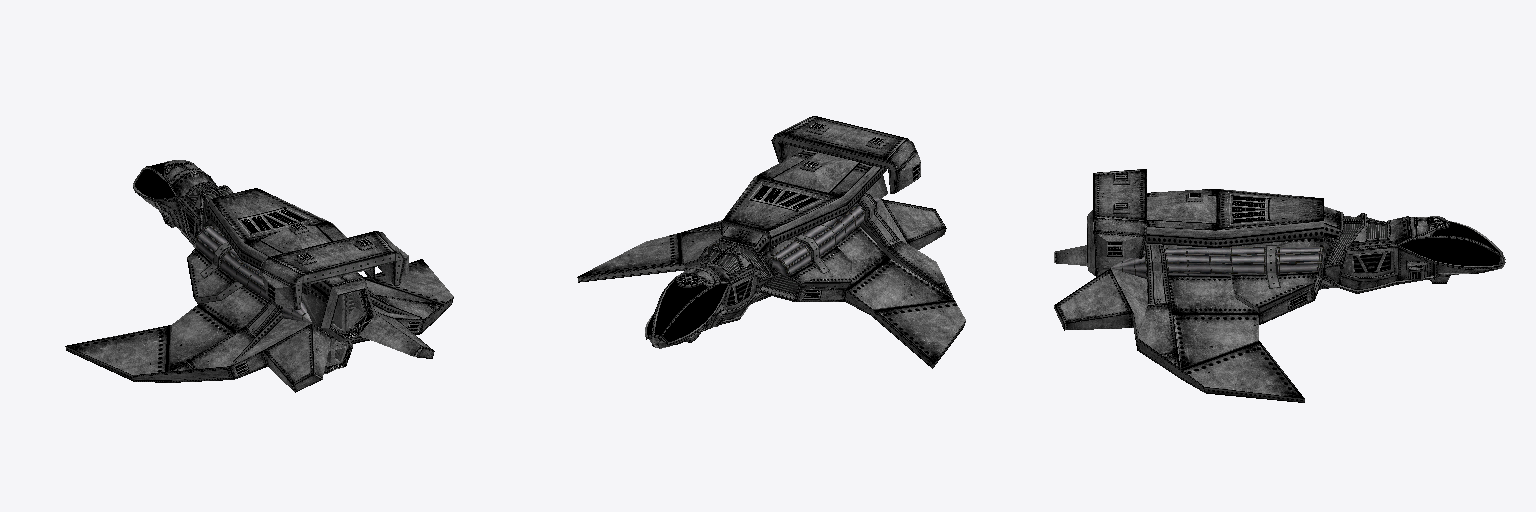
3 views of the same model, side by side, from view 1: azimuth 30°, elevation 25°; view 2: azimuth 150°, elevation 25°; view 3: azimuth 270°, elevation 25° (orthographic).
Visible parts, largest first — view 1: Defender.001; view 2: Defender.001; view 3: Defender.001.
Boxes of the visible parts, box(x1,y1,x2,y2) form: Defender.001: box(65, 160, 453, 392); Defender.001: box(577, 116, 965, 368); Defender.001: box(1054, 169, 1505, 402).
Size of the model in its own units: 14.91 by 5.19 by 16.33.
6 materials, 2 textured.